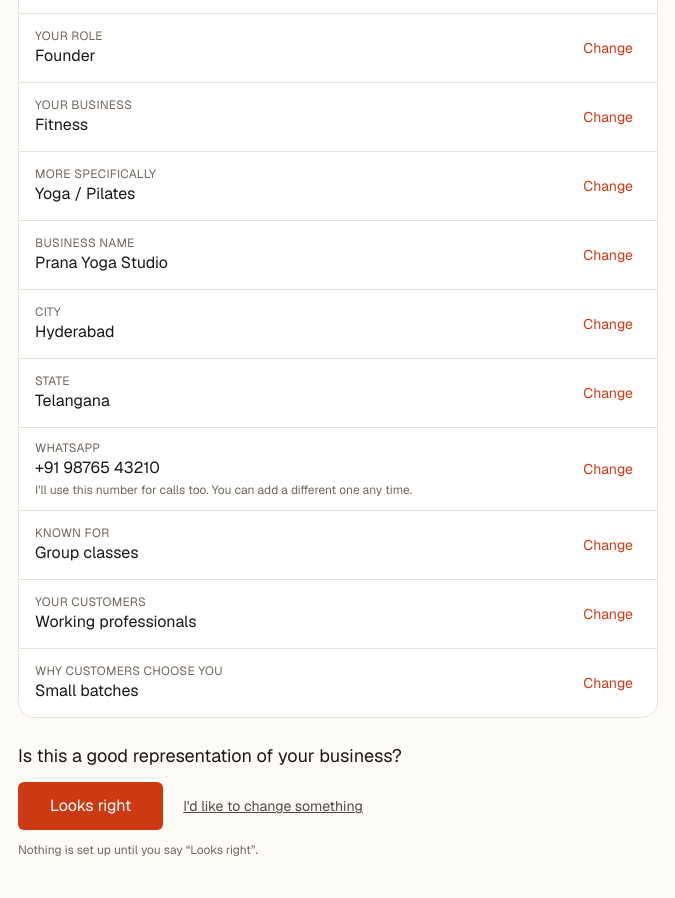
Test: review and confirm › when confirming fails › if the answers changed since the review (another tab), reloads the latest so they review THAT
This screenshot has width=675, height=898.
(page scrolled)
Click the button "Looks right": click(91, 806) [18,782,163,830]
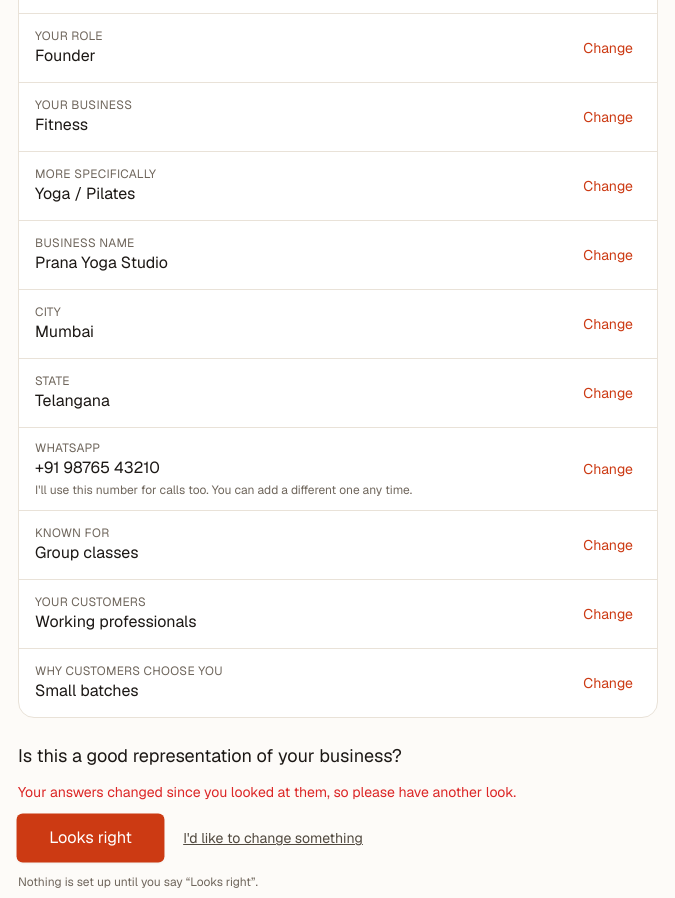
Result: the message shows "have another look" at [18,783,516,801]
Result: the text "Mumbai" is shown at [35,320,94,344]
